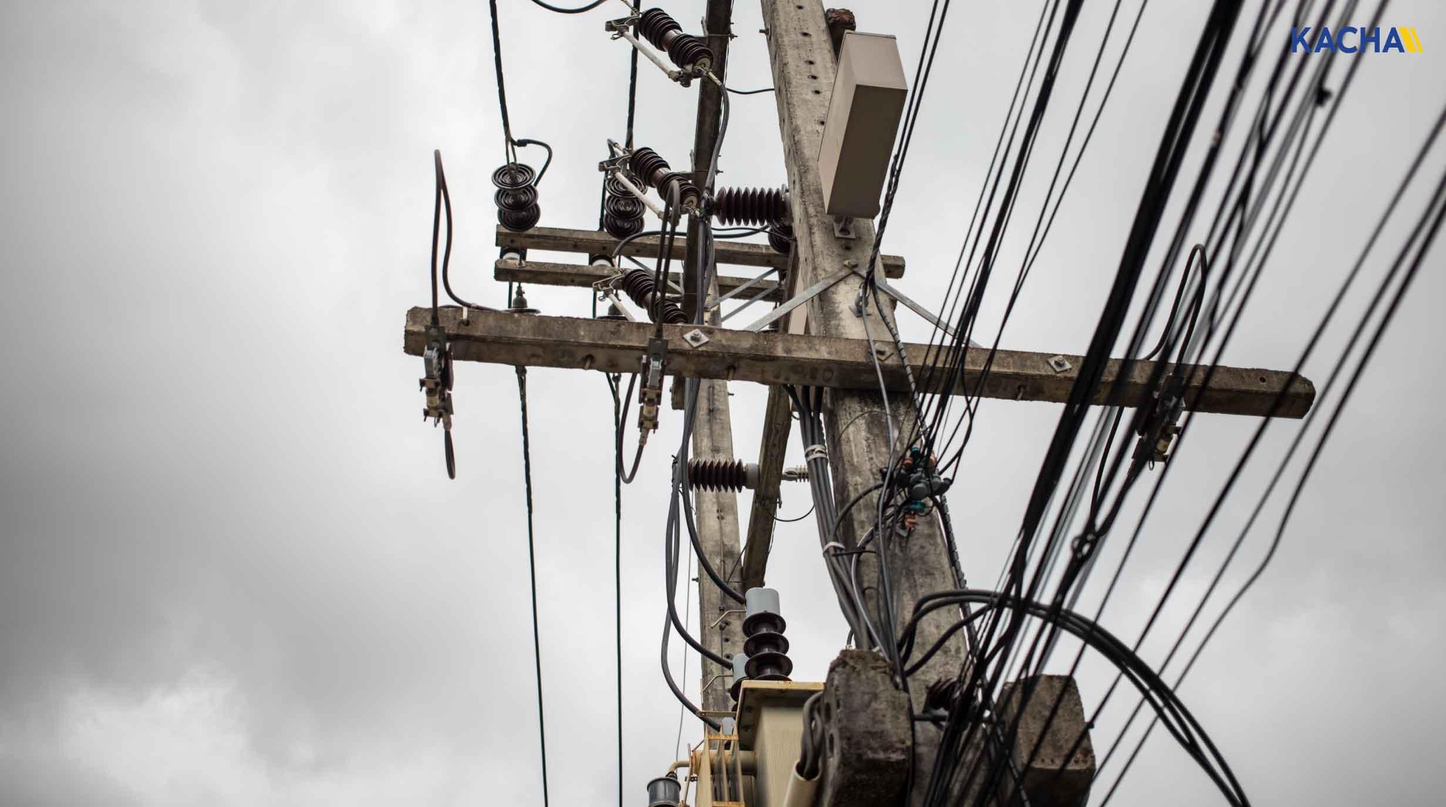wires-only: (1006, 10, 1294, 679)
